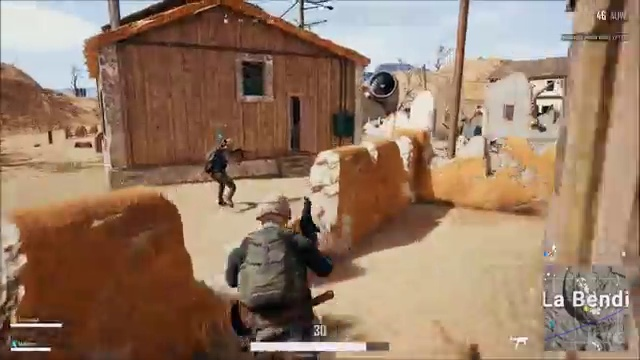Player: (240, 194, 335, 322), (185, 119, 249, 216)
